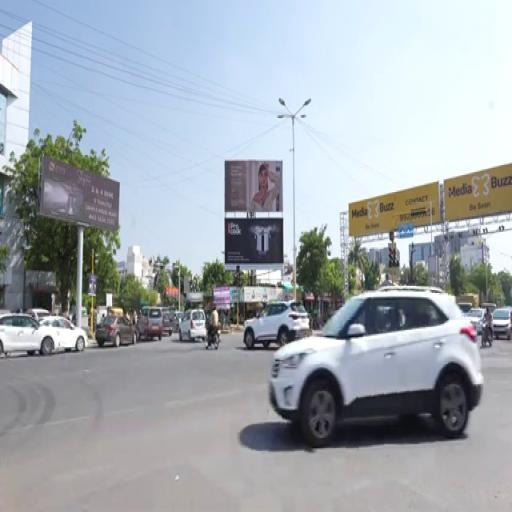Car: (269, 291, 483, 447), (244, 302, 309, 349), (0, 313, 64, 355), (40, 316, 87, 351), (96, 315, 137, 348), (136, 306, 163, 339), (179, 309, 206, 341), (492, 308, 511, 339), (464, 308, 485, 335), (27, 308, 51, 321), (162, 308, 172, 335), (172, 311, 183, 332)
